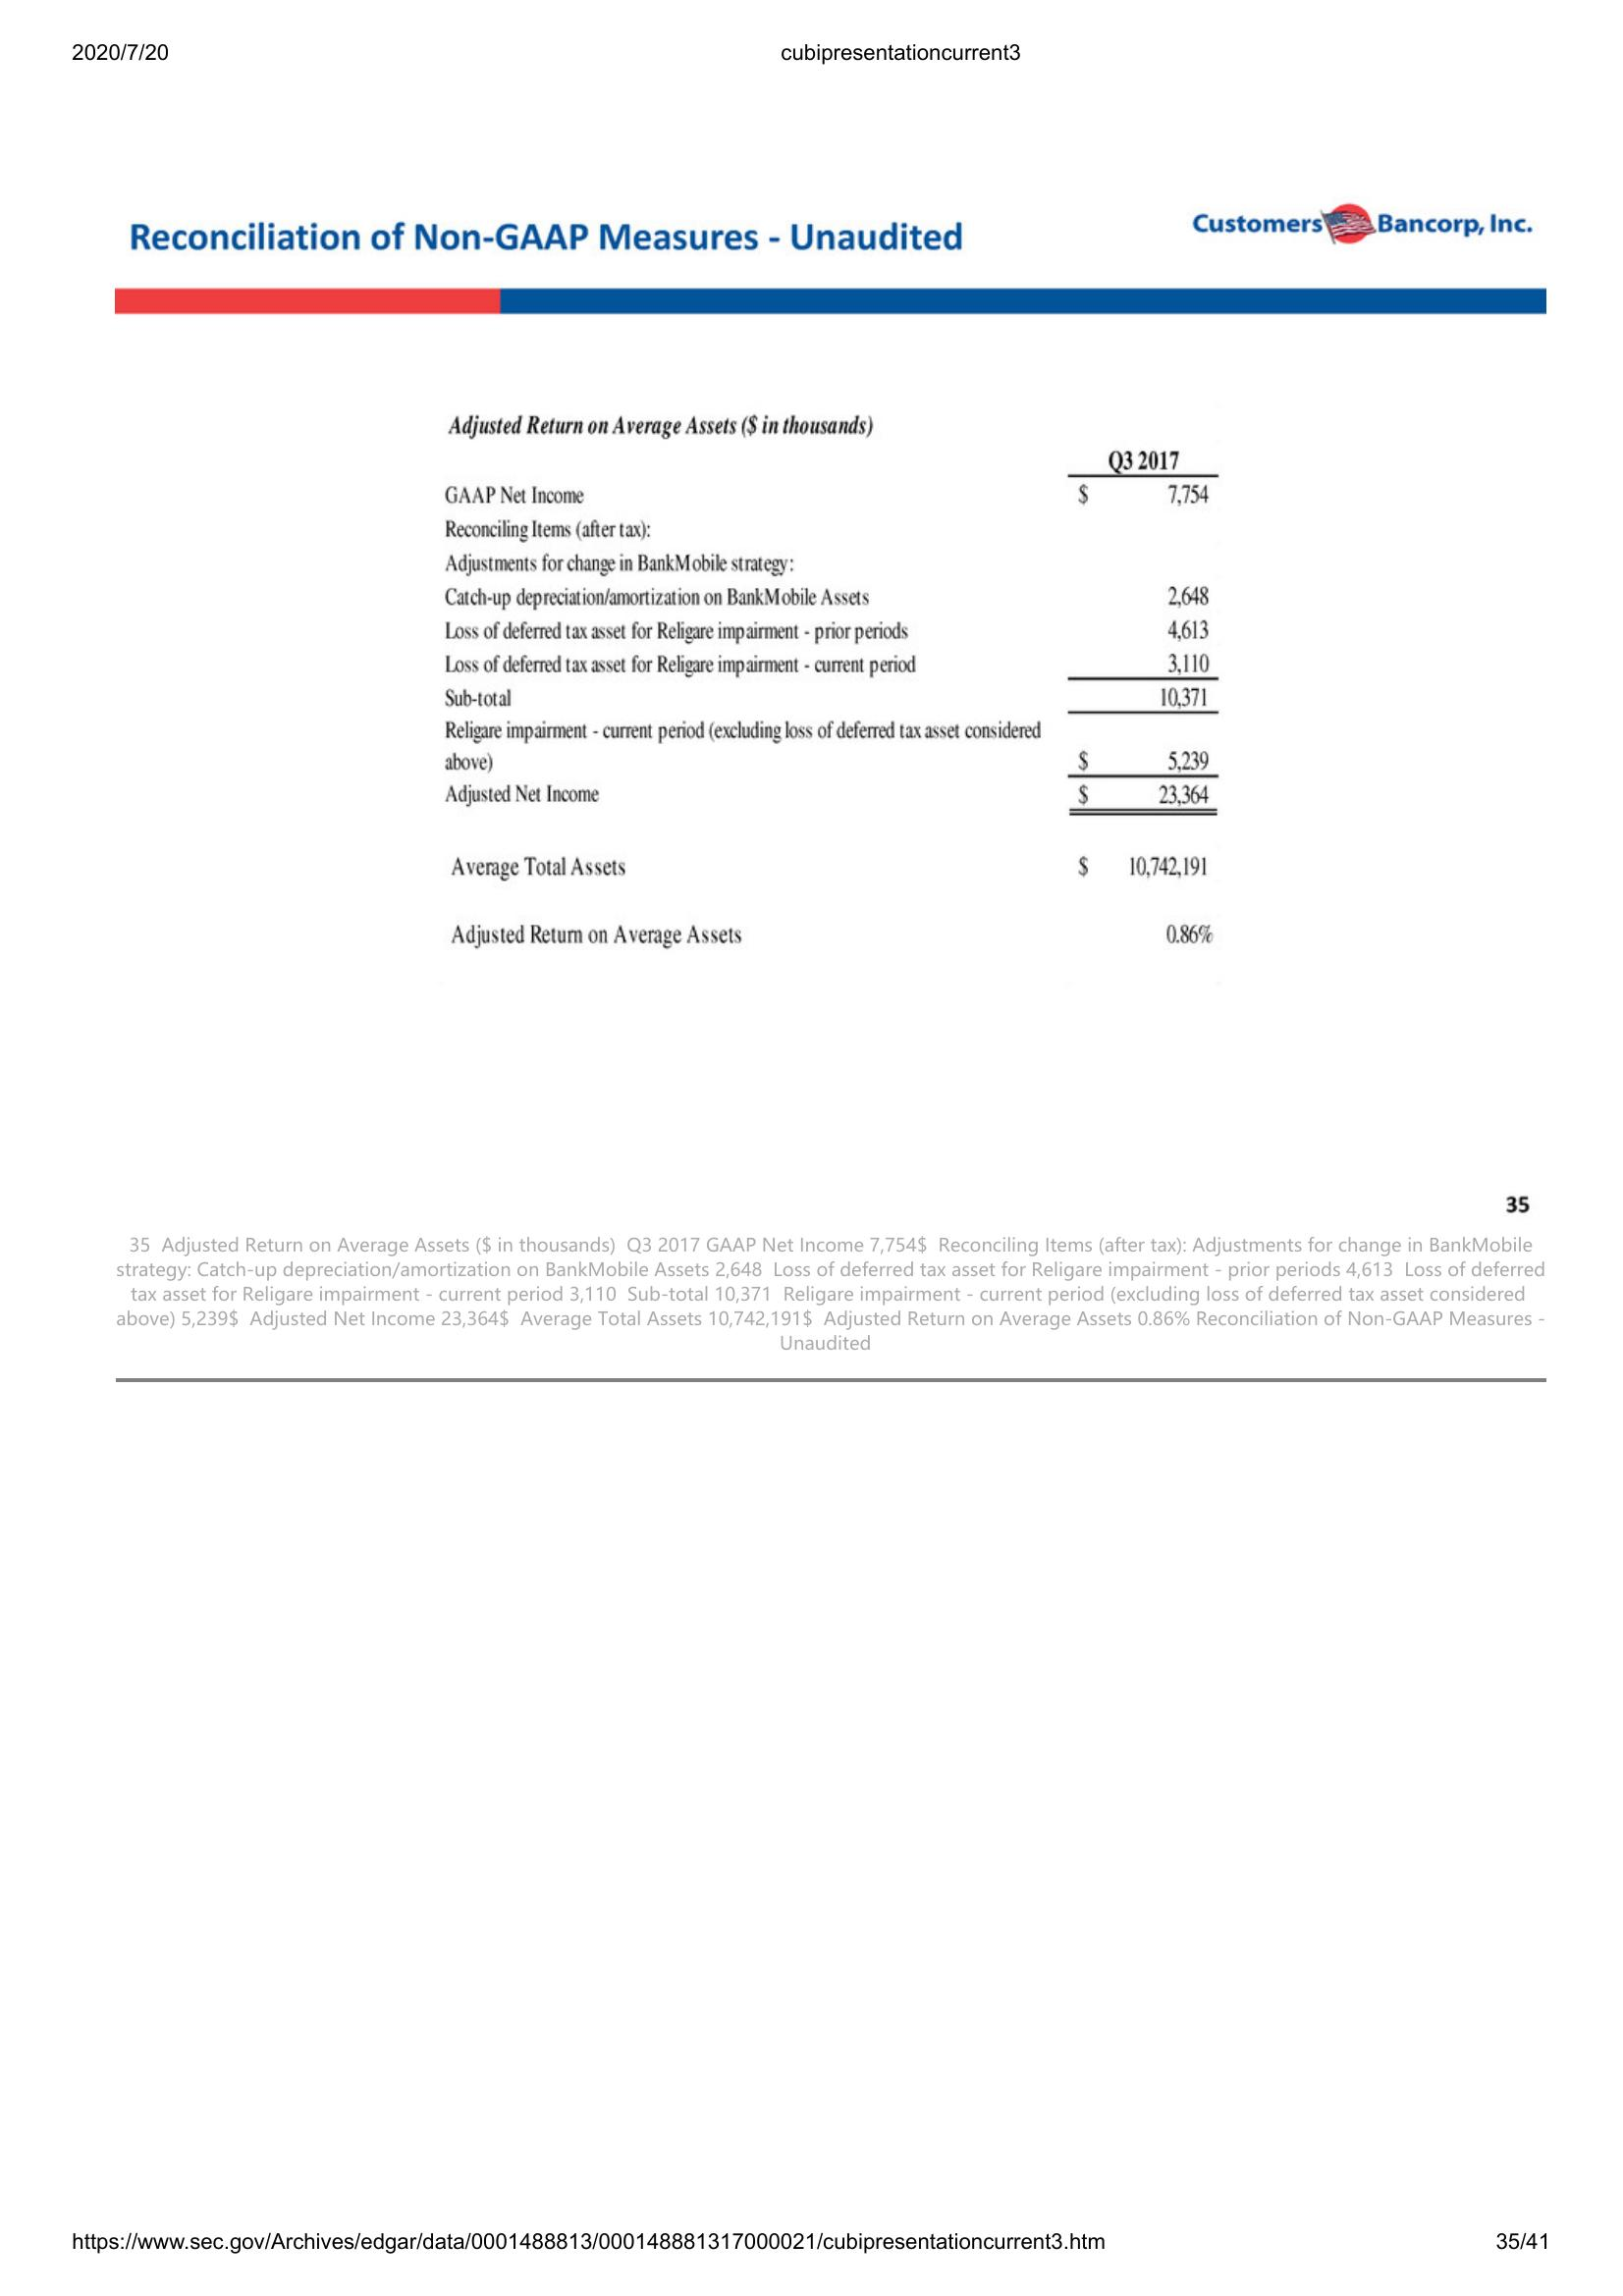table: (439, 407, 1219, 967)
